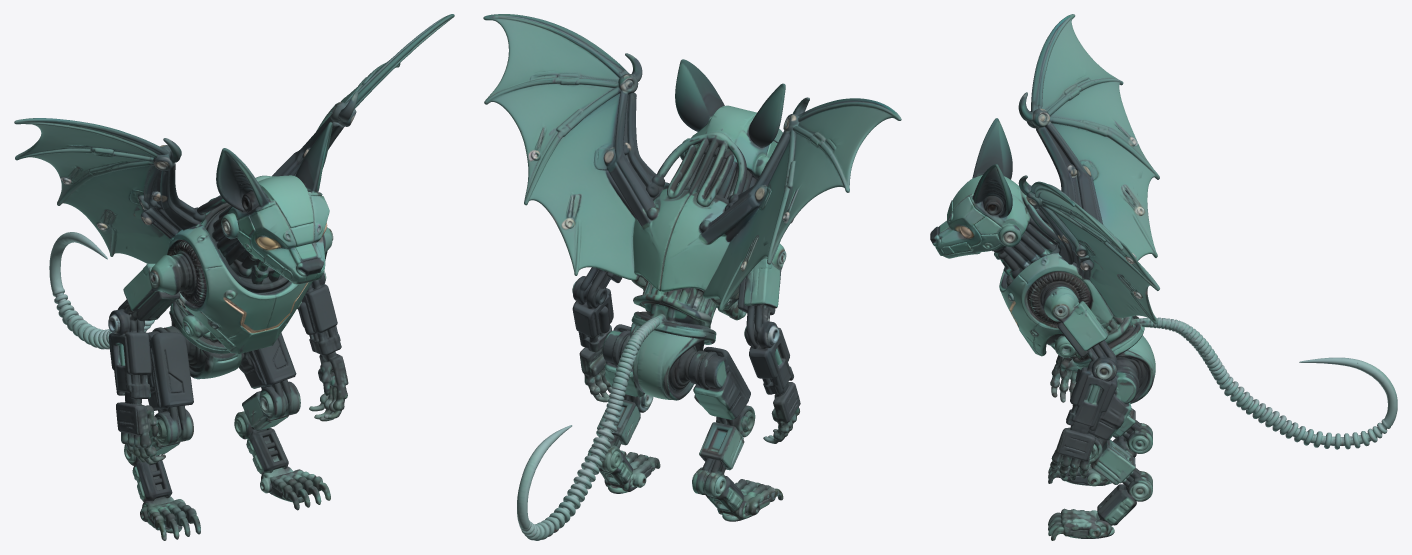
The model's file is camera.glb.
3 renders of one model, left to right at view 1: azimuth 30°, elevation 25°; view 2: azimuth 150°, elevation 25°; view 3: azimuth 270°, elevation 25°, orthographic. The views are drawn at different scales.
Visible parts, largest first — view 1: texture_v128_768.001; view 2: texture_v128_768.001; view 3: texture_v128_768.001.
Boxes of the visible parts, box(x1,y1,x2,y2) form: texture_v128_768.001: box(14, 14, 454, 540); texture_v128_768.001: box(483, 14, 901, 540); texture_v128_768.001: box(930, 14, 1397, 540).
Size of the model in its own units: 0.8306 by 0.8105 by 0.8579.
1 material, 1 textured.
